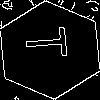T: (25, 25, 78, 60)
